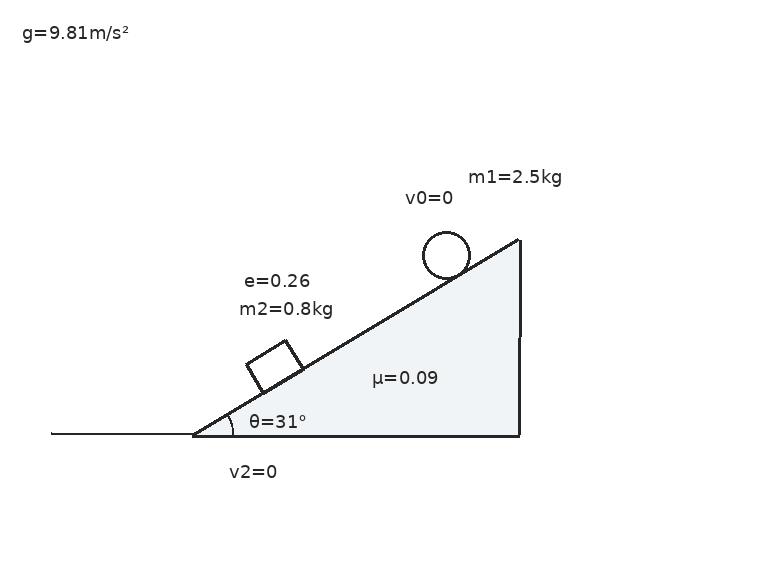ball: (420, 229, 472, 281)
block: (244, 338, 305, 395)
ramp: (191, 237, 521, 437)
